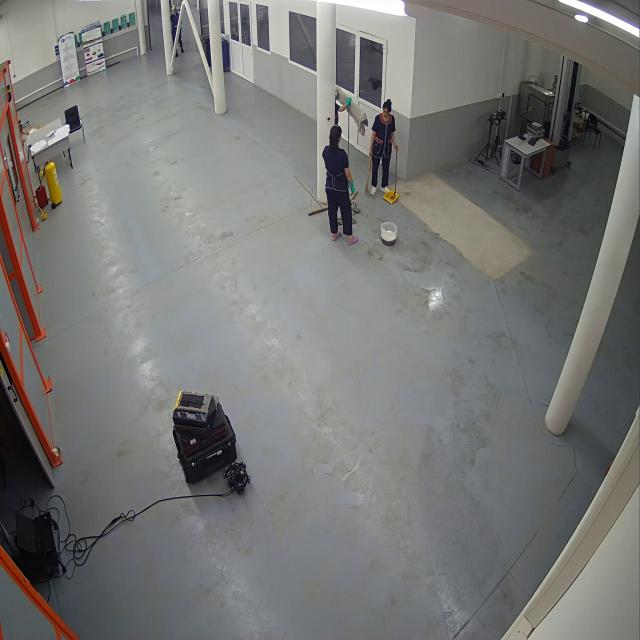NO-Hardhat: (329, 121, 346, 139), (384, 96, 395, 115)
Person: (321, 121, 360, 248), (368, 98, 398, 199), (335, 89, 354, 125)
